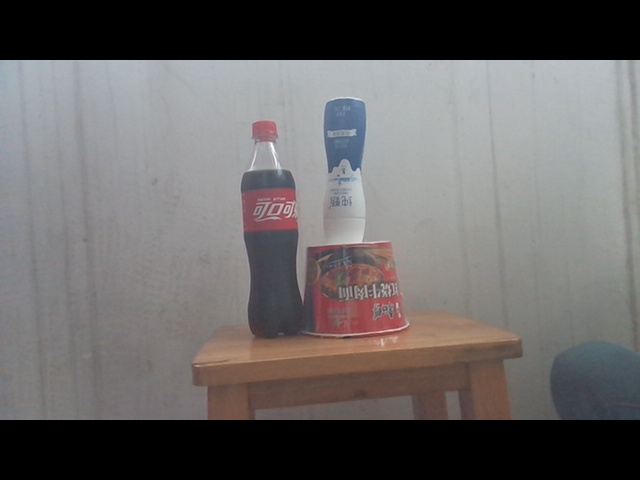cola: (241, 120, 303, 339)
kangshifu: (302, 240, 410, 340)
yogurt: (321, 97, 367, 242)
